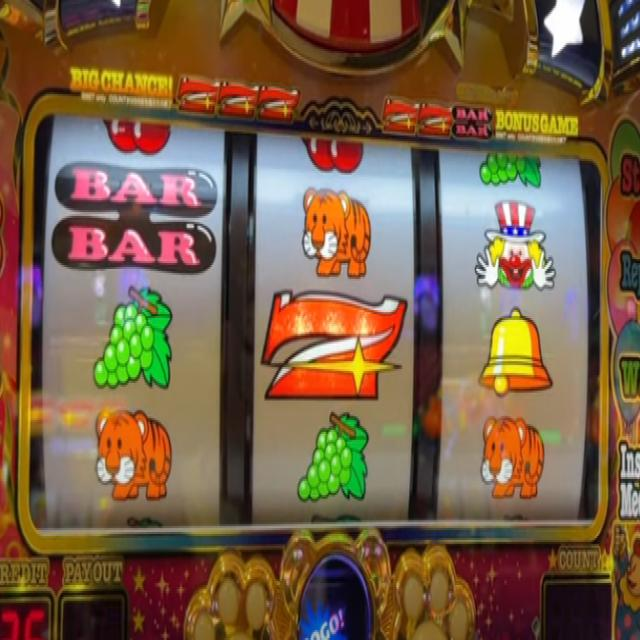bar: (52, 159, 217, 274), (452, 106, 492, 142)
bell: (477, 305, 554, 400)
cherry: (100, 117, 171, 158), (300, 135, 364, 173)
clown: (474, 200, 556, 295)
display: (31, 115, 599, 531)
grape: (92, 284, 177, 391), (298, 409, 370, 503), (479, 150, 544, 192)
tiger: (95, 410, 173, 500), (302, 187, 372, 279), (480, 415, 544, 498)
z: (263, 288, 408, 402), (260, 84, 298, 122), (178, 78, 218, 114), (220, 81, 258, 118), (384, 98, 418, 138), (419, 102, 452, 135)
